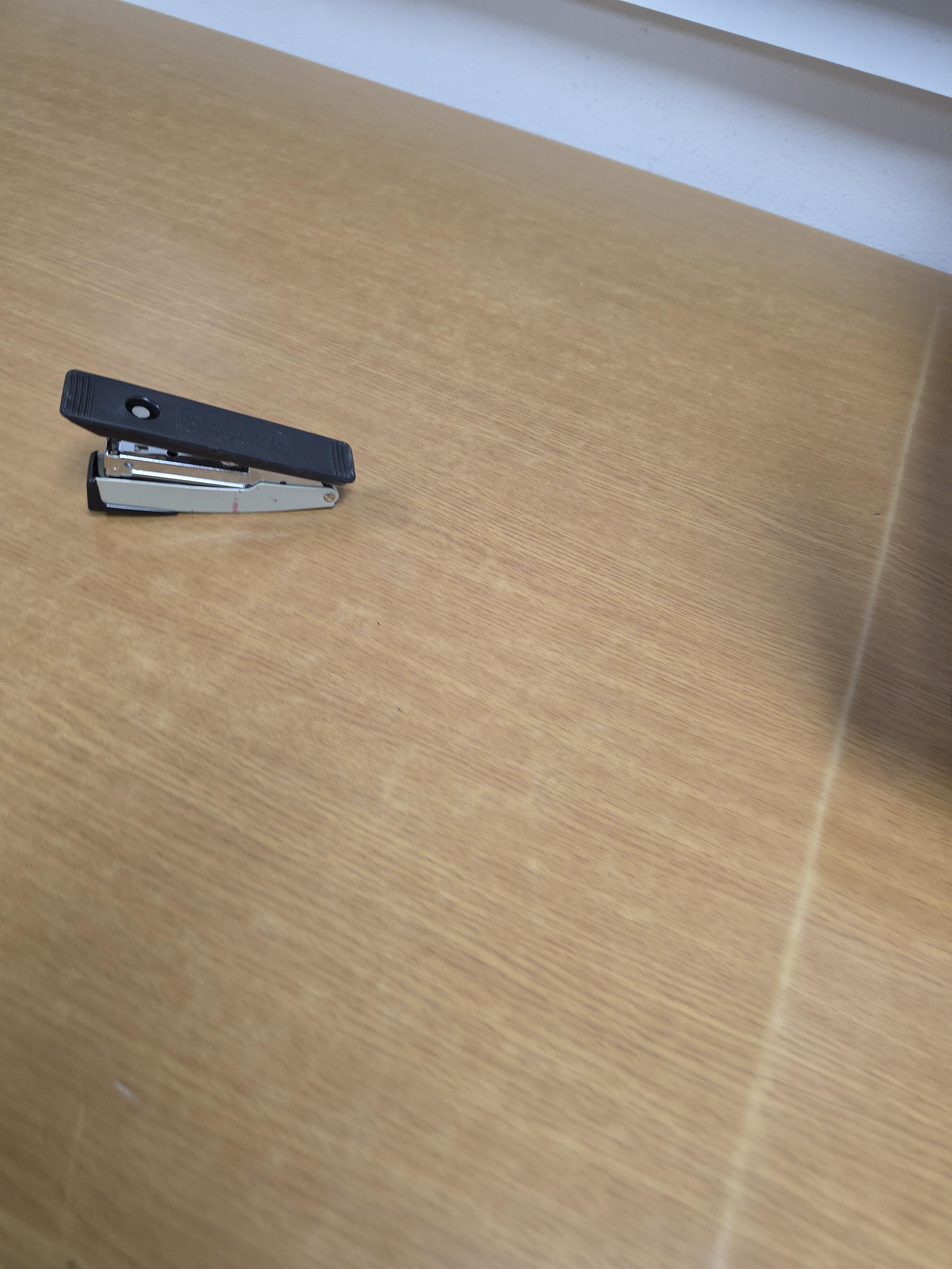stapler: (60, 370, 356, 515)
